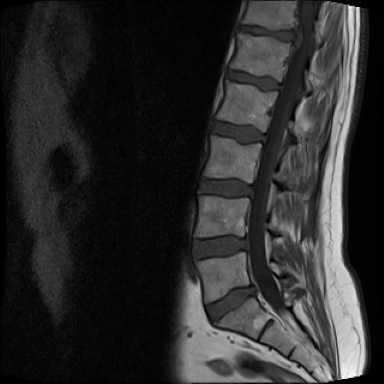Degenerative Disc Disease (DDD): (232, 21, 305, 46)
Lumbar Disc Bulge (LDB): (188, 229, 256, 264), (191, 175, 260, 205)
Normal IVD: (198, 276, 258, 328), (205, 113, 272, 151), (221, 63, 285, 95)
Spinal Stenosis (SS): (280, 15, 320, 51)
